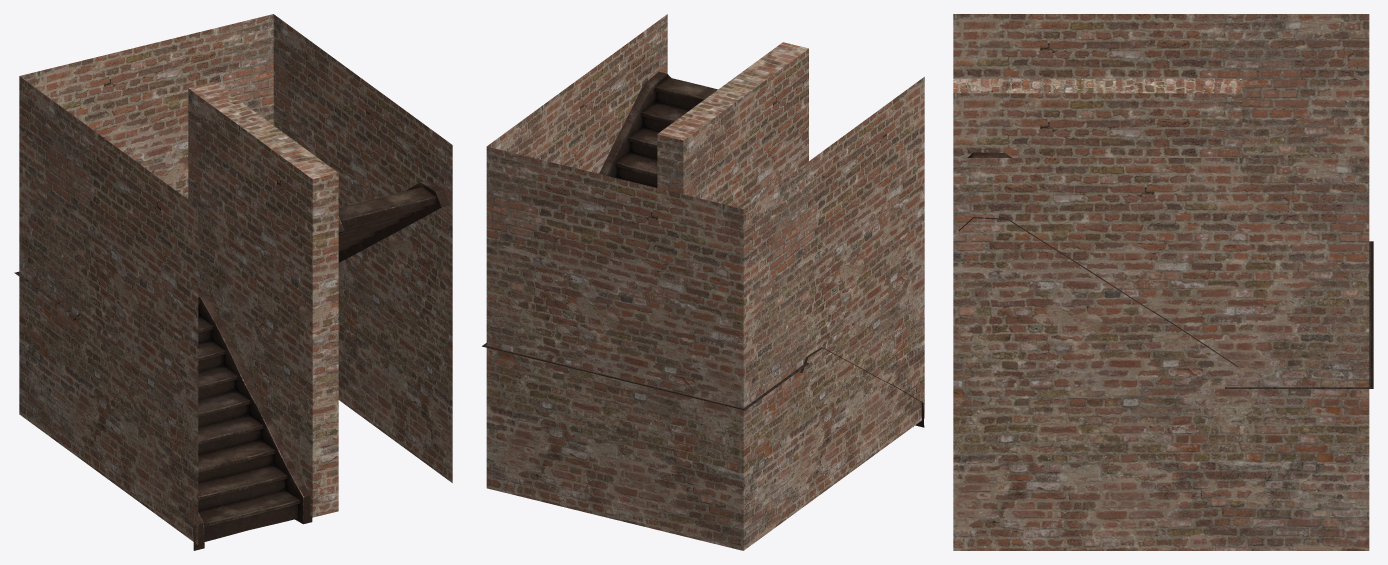
File: stairs_optimised.glb
The picture shows the model from 3 angles, left to right: view 1: azimuth 30°, elevation 25°; view 2: azimuth 150°, elevation 25°; view 3: azimuth 270°, elevation 25°; orthographic projection. The views are drawn at different scales.
Visible parts, largest first — view 1: StairShell, StairFlightUp, StairFlightDown; view 2: StairShell, StairFlightDown, StairLanding; view 3: StairShell, StairLanding, StairFlightDown.
Boxes of the visible parts, left/top/right/bottom form: StairShell: left=19, top=14, right=452, bottom=544; StairFlightUp: left=73, top=287, right=312, bottom=550; StairFlightDown: left=338, top=180, right=449, bottom=262; StairShell: left=486, top=14, right=924, bottom=550; StairFlightDown: left=599, top=72, right=717, bottom=187; StairLanding: left=482, top=343, right=808, bottom=410; StairShell: left=953, top=14, right=1369, bottom=550; StairLanding: left=1225, top=241, right=1373, bottom=388; StairFlightDown: left=959, top=152, right=1239, bottom=391.
Size of the model in its own units: 2.42 by 3.06 by 2.91.
Materials: 3 (3 with a texture image).
